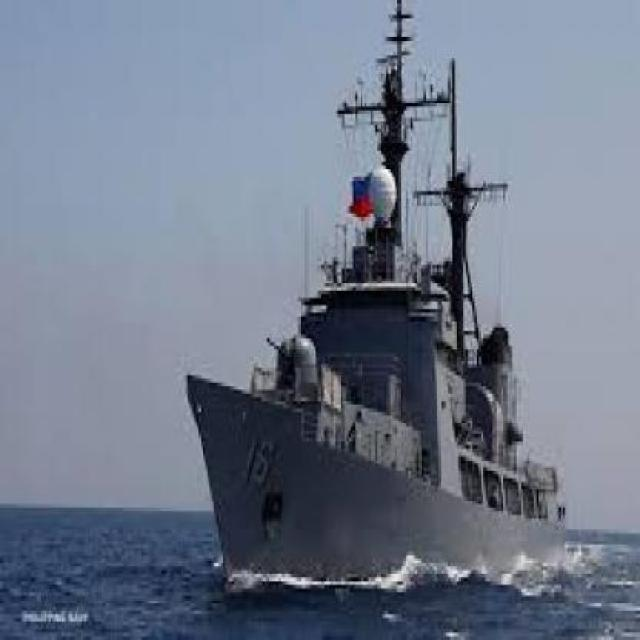warship2: (167, 56, 604, 597)
